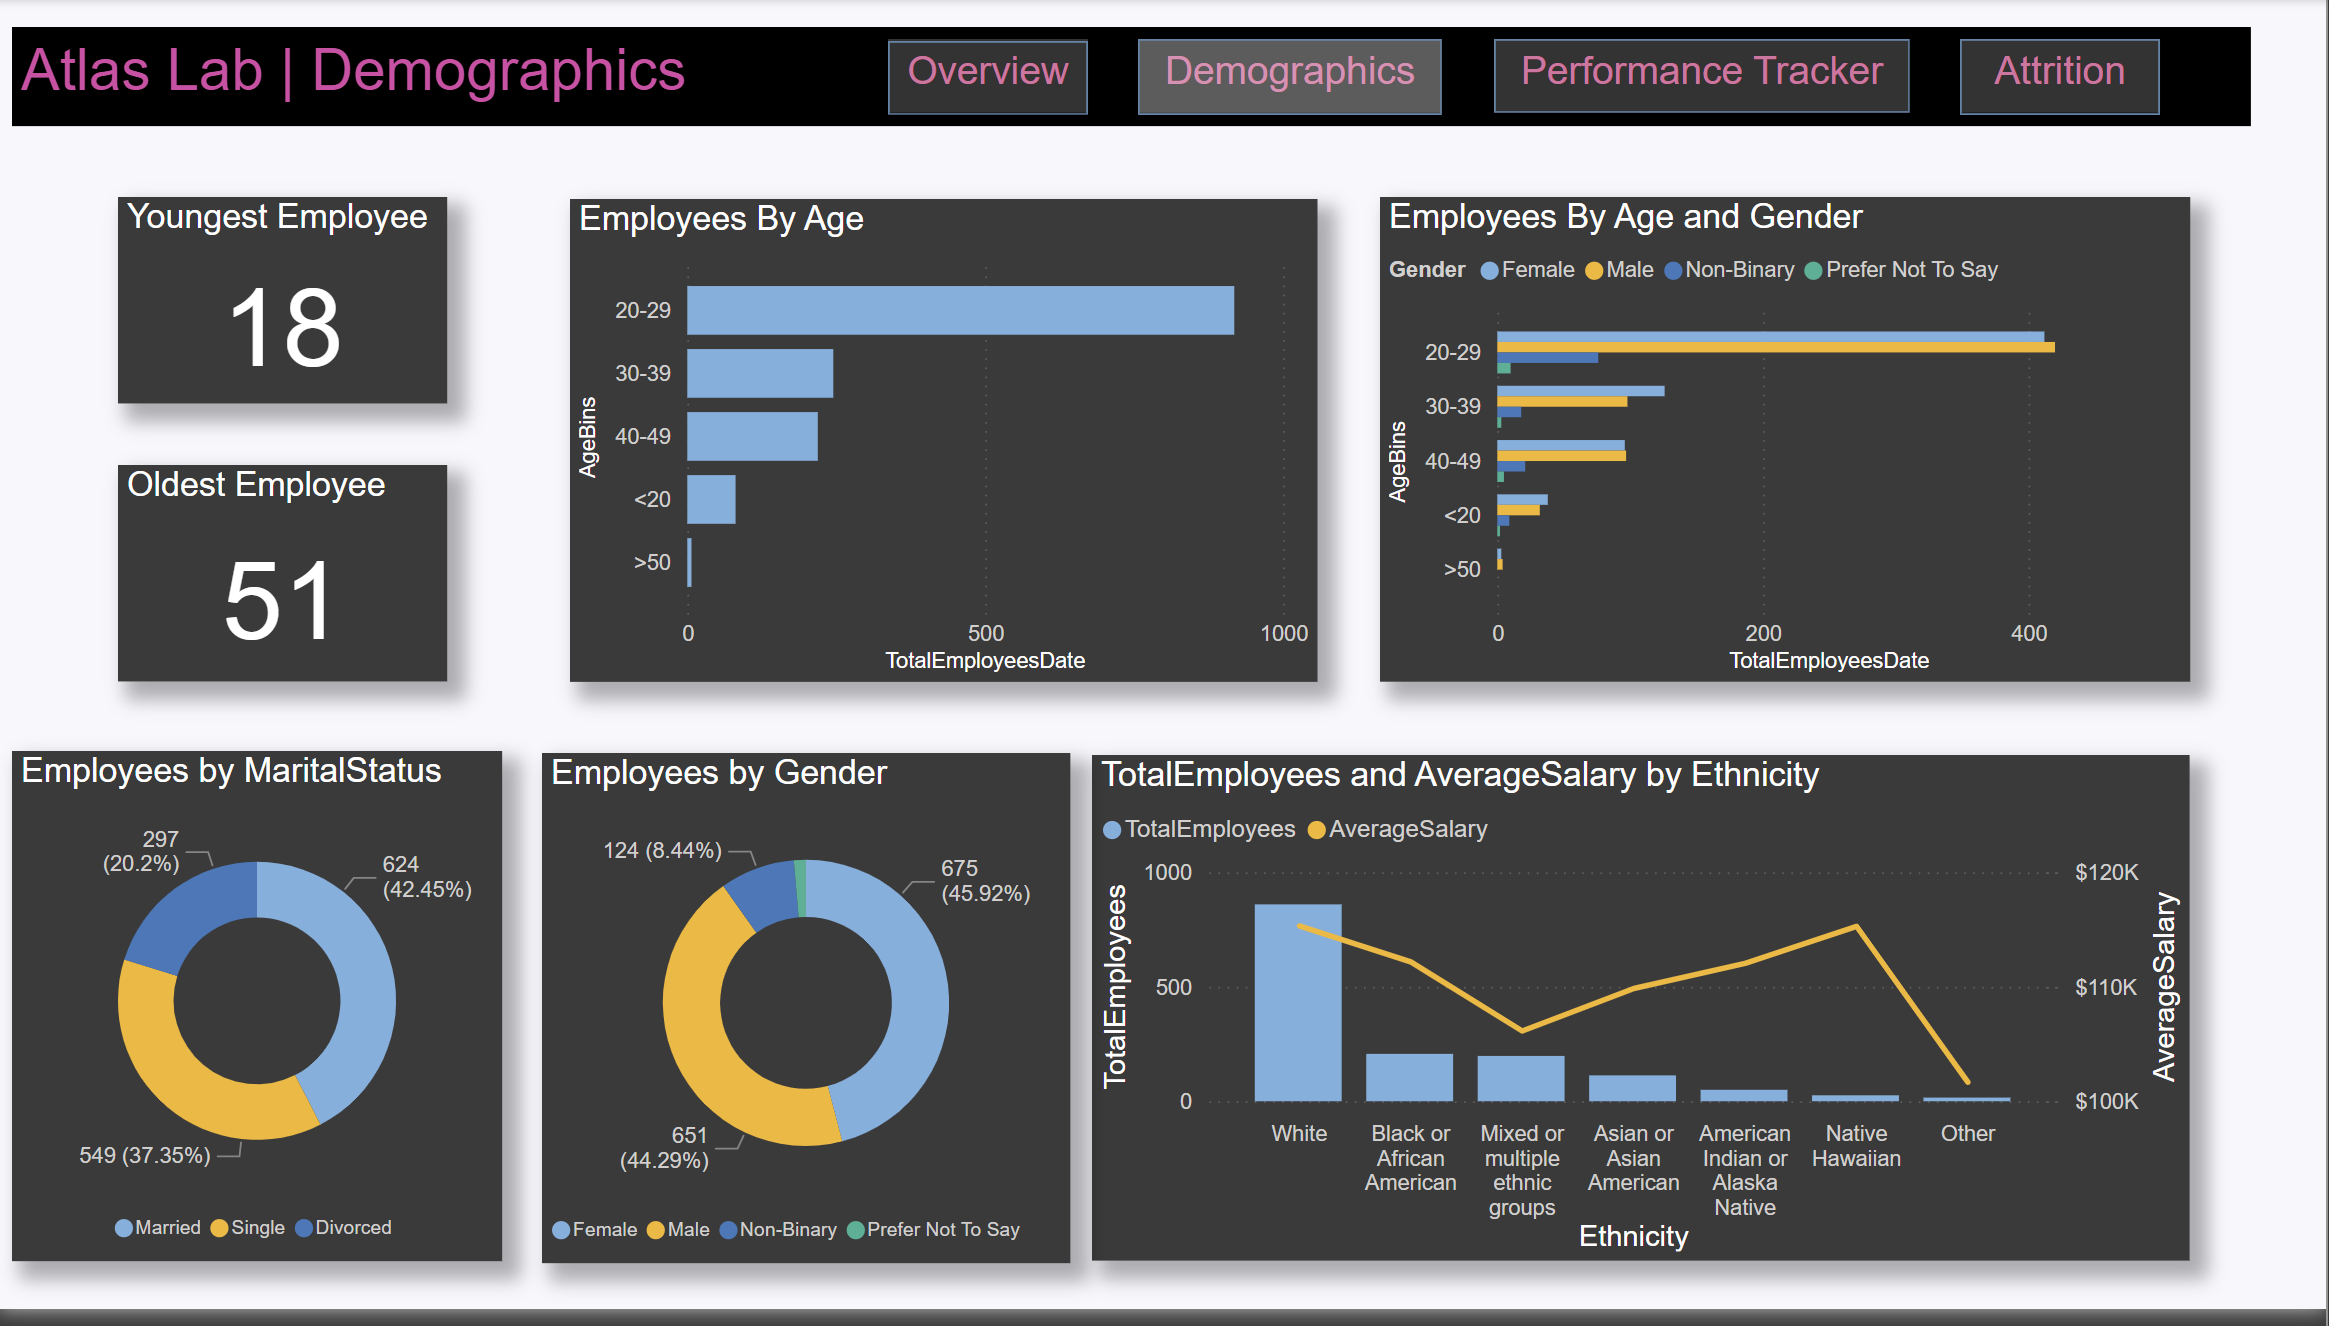

Layout of this report page (visuals, bound fields, positions):
{"tool":"powerbi","page":{"name":"Demographics","canvas":[1280,720],"ordinal":1},"visuals":[{"type":"group","id":"g1","title":"Group 3","box":[822.2,22.4,228.7,40.7],"z":0,"group":"g4"},{"type":"card","title":"Youngest Employee","fields":{"Values":["Min(DimEmployee.Age)"]},"box":[65.6,108.9,181.1,113.3],"z":0},{"type":"shape","box":[822.2,22.4,228.7,40.7],"z":1000,"group":"g4"},{"type":"card","title":"Oldest Employee","fields":{"Values":["Max(DimEmployee.Age)"]},"box":[65.6,256.7,181.1,118.9],"z":1000},{"type":"barChart","title":"Employees By Age","fields":{"Y":["_Measures.TotalEmployeesDate"],"Category":["DimEmployee.AgeBins"]},"box":[314.4,110,411.1,265.6],"z":2000},{"type":"clusteredBarChart","title":"Employees By Age and Gender","fields":{"Category":["DimEmployee.AgeBins"],"Y":["_Measures.TotalEmployeesDate"],"Series":["DimEmployee.Gender"]},"box":[760,108.9,445.6,266.7],"z":3000},{"type":"donutChart","title":"Employees by MaritalStatus","fields":{"Y":["_Measures.TotalEmployees"],"Category":["DimEmployee.MaritalStatus"]},"box":[7.7,413.5,269.4,280.4],"z":4000},{"type":"lineStackedColumnComboChart","fields":{"Category":["DimEmployee.Ethnicity"],"Y":["_Measures.TotalEmployees"],"Y2":["_Measures.AverageSalary"]},"box":[601.5,415.7,603.7,278.2],"z":5000},{"type":"textbox","box":[7.8,15.6,1231.1,54.4],"z":6000},{"type":"group","id":"g2","title":"Group 1","box":[489.3,21.8,110,41.8],"z":7000},{"type":"textbox","box":[1078.8,21.6,110,40.7],"z":8000,"group":"g5"},{"type":"textbox","box":[489.3,21.8,110,40.7],"z":8000,"group":"g2"},{"type":"group","id":"g3","title":"Group 2","box":[627.2,21.8,167.1,41.8],"z":8000},{"type":"group","id":"g4","title":"Group 4","box":[822.2,22.4,228.7,40.7],"z":9000},{"type":"textbox","box":[822.2,22.4,228.7,40.7],"z":9000,"group":"g1"},{"type":"group","id":"g5","title":"Group 5","box":[1078.8,21.6,110,42.2],"z":10000},{"type":"donutChart","title":"Employees by Gender","fields":{"Y":["_Measures.TotalEmployees"],"Category":["DimEmployee.Gender"]},"box":[299.1,414.6,290.3,280.4],"z":10001},{"type":"textbox","box":[627.2,21.8,167.1,40.7],"z":11000,"group":"g3"},{"type":"shape","box":[489.3,22.3,110,40.7],"z":12000,"group":"g2"},{"type":"shape","box":[627.2,21.8,167.1,41.8],"z":12002,"group":"g3"},{"type":"shape","box":[1078.8,22,110,41.8],"z":13000,"group":"g5"}]}

Visuals, with their boxes in screenshot pixels (x1, y1, x2, y2), scaled from the page's 1280x720 canvas onto the 2329x1326 screenshot:
"Group 3" group: <bbox>1496, 41, 1912, 116</bbox>
"Youngest Employee" card: <bbox>119, 201, 449, 409</bbox>
shape: <bbox>1496, 41, 1912, 116</bbox>
"Oldest Employee" card: <bbox>119, 473, 449, 692</bbox>
"Employees By Age" barChart: <bbox>572, 203, 1320, 692</bbox>
"Employees By Age and Gender" clusteredBarChart: <bbox>1383, 201, 2194, 692</bbox>
"Employees by MaritalStatus" donutChart: <bbox>14, 762, 504, 1278</bbox>
lineStackedColumnComboChart - DimEmployee.Ethnicity x _Measures.TotalEmployees: <bbox>1094, 766, 2193, 1278</bbox>
textbox: <bbox>14, 29, 2254, 129</bbox>
"Group 1" group: <bbox>890, 40, 1090, 117</bbox>
textbox: <bbox>1963, 40, 2163, 115</bbox>
textbox: <bbox>890, 40, 1090, 115</bbox>
"Group 2" group: <bbox>1141, 40, 1445, 117</bbox>
"Group 4" group: <bbox>1496, 41, 1912, 116</bbox>
textbox: <bbox>1496, 41, 1912, 116</bbox>
"Group 5" group: <bbox>1963, 40, 2163, 117</bbox>
"Employees by Gender" donutChart: <bbox>544, 764, 1072, 1280</bbox>
textbox: <bbox>1141, 40, 1445, 115</bbox>
shape: <bbox>890, 41, 1090, 116</bbox>
shape: <bbox>1141, 40, 1445, 117</bbox>
shape: <bbox>1963, 41, 2163, 117</bbox>
